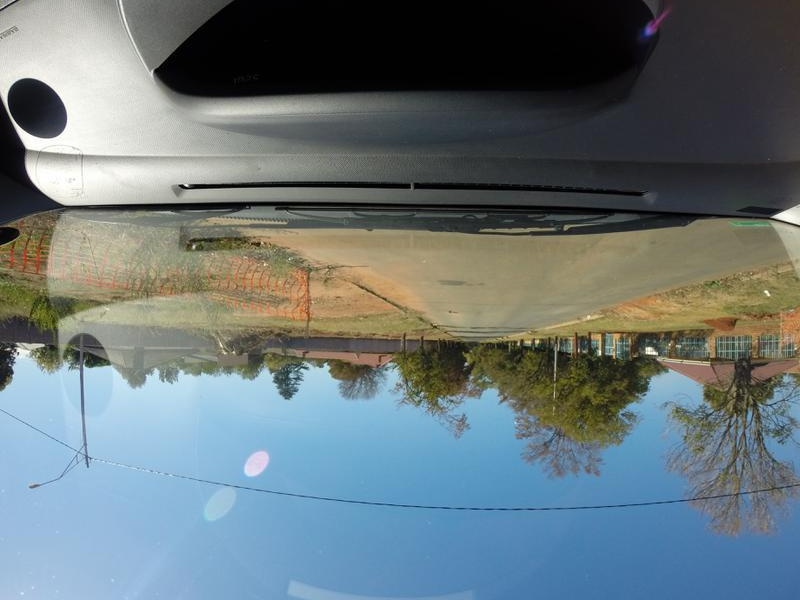pothole: (443, 297, 466, 320)
